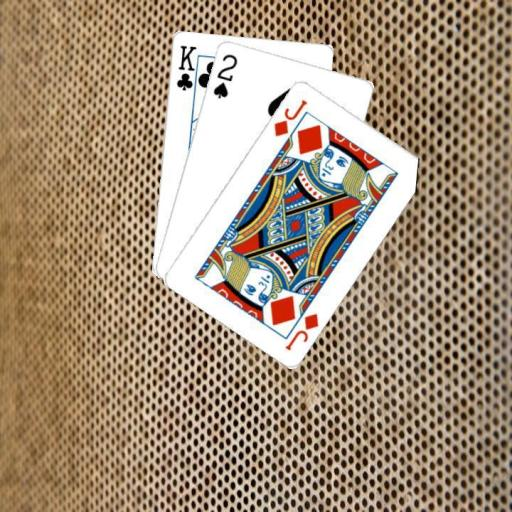card-corner: (270, 96, 309, 138), (282, 309, 320, 352), (173, 42, 201, 97), (210, 50, 239, 100)
